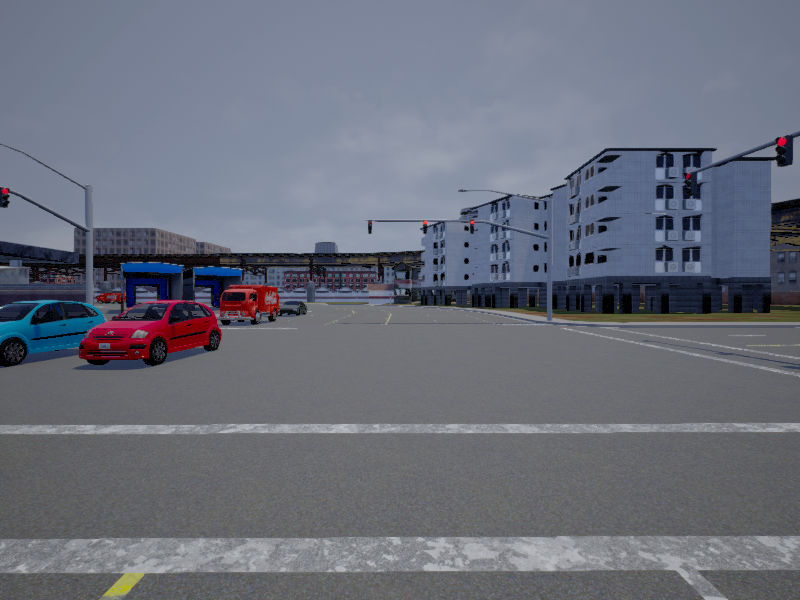Benign: (82, 301, 222, 365), (1, 301, 108, 364), (219, 286, 281, 324), (281, 301, 307, 315)
